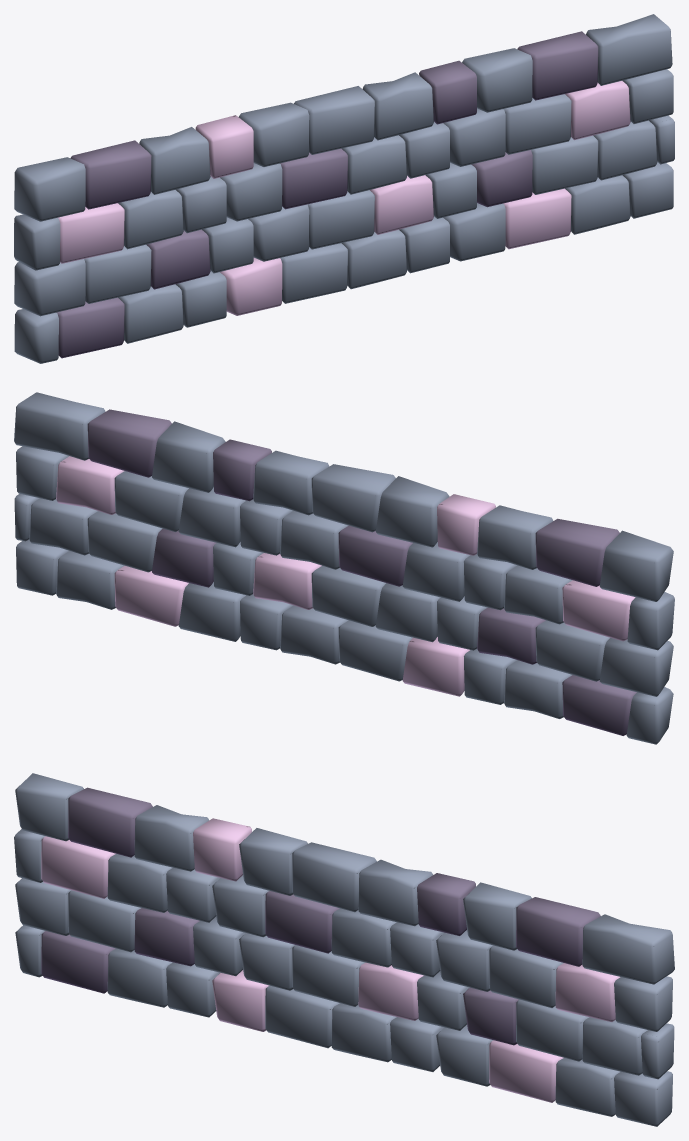
Rendered from muralha.fbx.
3 renders of one model, top to bottom at view 1: azimuth 30°, elevation 25°; view 2: azimuth 150°, elevation 25°; view 3: azimuth 330°, elevation 25°, orthographic.
Parts seen in each view (by area): view 1: muralha; view 2: muralha; view 3: muralha.
Part boxes in pixels (x1=…): muralha: x1=14, y1=14, x2=674, y2=363; muralha: x1=14, y1=392, x2=674, y2=744; muralha: x1=14, y1=773, x2=674, y2=1126.
Size of the model in its own units: 147 by 41.39 by 7.87.
